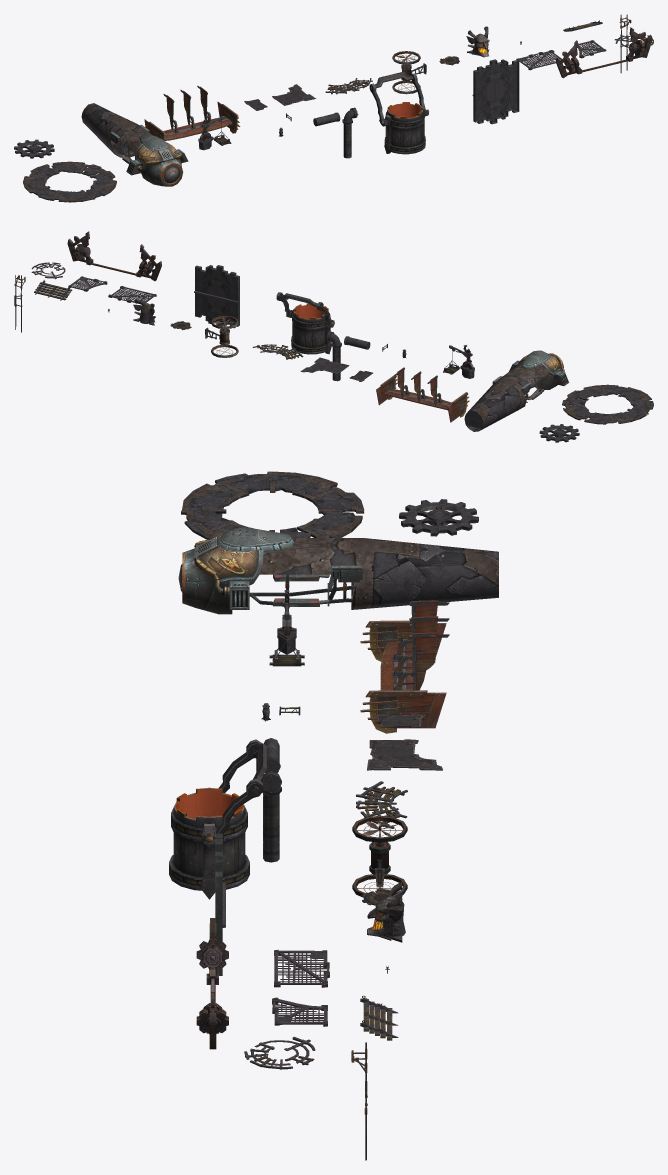
The model's file is f_2102_frool.FBX.
The picture shows the model from 3 angles, top to bottom: view 1: azimuth 30°, elevation 25°; view 2: azimuth 150°, elevation 25°; view 3: azimuth 270°, elevation 25°; orthographic projection. The views are drawn at different scales.
Parts seen in each view (by area): view 1: f_2102_feiji_01, f_205_deco_a05, f_2102_deco_a07, f_1206_deco_a10, f_2102_feiji_09, f_205_deco_a01, f_1206_deco_a01, f_1238_feiji_08, f_2102_deco_a04, f_2102_floor_b04, f_2102_floor_01, f_205_deco_a02 (+4 smaller); view 2: f_2102_feiji_01, f_205_deco_a05, f_2102_deco_a07, f_2102_feiji_09, f_1206_deco_a10, f_205_deco_a01, f_1238_feiji_08, f_2102_deco_a04, f_1206_deco_a01, f_2102_floor_b04, f_2102_floor_01, f_1299_floor_a08 (+6 smaller); view 3: f_2102_feiji_01, f_2102_feiji_09, f_2102_deco_a07, f_1206_deco_a10, f_205_deco_a01, f_2102_deco_a04, f_1238_feiji_08, f_2102_floor_01, f_1206_deco_a01, f_1299_floor_a08, f_205_floor_a13, f_205_deco_a02 (+6 smaller).
Part boxes in pixels (bbox=[...]): f_2102_feiji_01: bbox=[81, 103, 188, 186]; f_205_deco_a05: bbox=[472, 59, 519, 124]; f_2102_deco_a07: bbox=[23, 161, 116, 202]; f_1206_deco_a10: bbox=[381, 102, 429, 154]; f_2102_feiji_09: bbox=[144, 85, 240, 140]; f_205_deco_a01: bbox=[556, 27, 652, 78]; f_1206_deco_a01: bbox=[369, 71, 428, 126]; f_1238_feiji_08: bbox=[392, 51, 426, 94]; f_2102_deco_a04: bbox=[14, 139, 54, 158]; f_2102_floor_b04: bbox=[198, 115, 231, 150]; f_2102_floor_01: bbox=[516, 50, 561, 70]; f_205_deco_a02: bbox=[466, 26, 489, 57]; f_2102_feiji_01: bbox=[464, 350, 568, 431]; f_205_deco_a05: bbox=[194, 265, 239, 328]; f_2102_deco_a07: bbox=[562, 384, 653, 424]; f_2102_feiji_09: bbox=[376, 367, 469, 422]; f_1206_deco_a10: bbox=[290, 303, 334, 354]; f_205_deco_a01: bbox=[67, 231, 161, 281]; f_1238_feiji_08: bbox=[205, 315, 238, 357]; f_2102_deco_a04: bbox=[539, 424, 579, 442]; f_1206_deco_a01: bbox=[276, 292, 334, 327]; f_2102_floor_b04: bbox=[443, 345, 474, 378]; f_2102_floor_01: bbox=[108, 286, 156, 303]; f_1299_floor_a08: bbox=[300, 357, 349, 374]; f_2102_feiji_01: bbox=[178, 527, 498, 614]; f_2102_feiji_09: bbox=[360, 600, 449, 733]; f_2102_deco_a07: bbox=[181, 471, 364, 539]; f_1206_deco_a10: bbox=[169, 787, 249, 899]; f_205_deco_a01: bbox=[196, 918, 228, 1049]; f_2102_deco_a04: bbox=[399, 499, 478, 536]; f_1238_feiji_08: bbox=[352, 815, 407, 897]; f_2102_floor_01: bbox=[274, 949, 329, 987]; f_1206_deco_a01: bbox=[203, 739, 266, 847]; f_1299_floor_a08: bbox=[367, 739, 442, 770]; f_205_floor_a13: bbox=[261, 771, 281, 862]; f_205_deco_a02: bbox=[367, 881, 405, 942].
Size of the model in its own units: 18878 by 2349 by 4411.
1 material, 1 textured.
